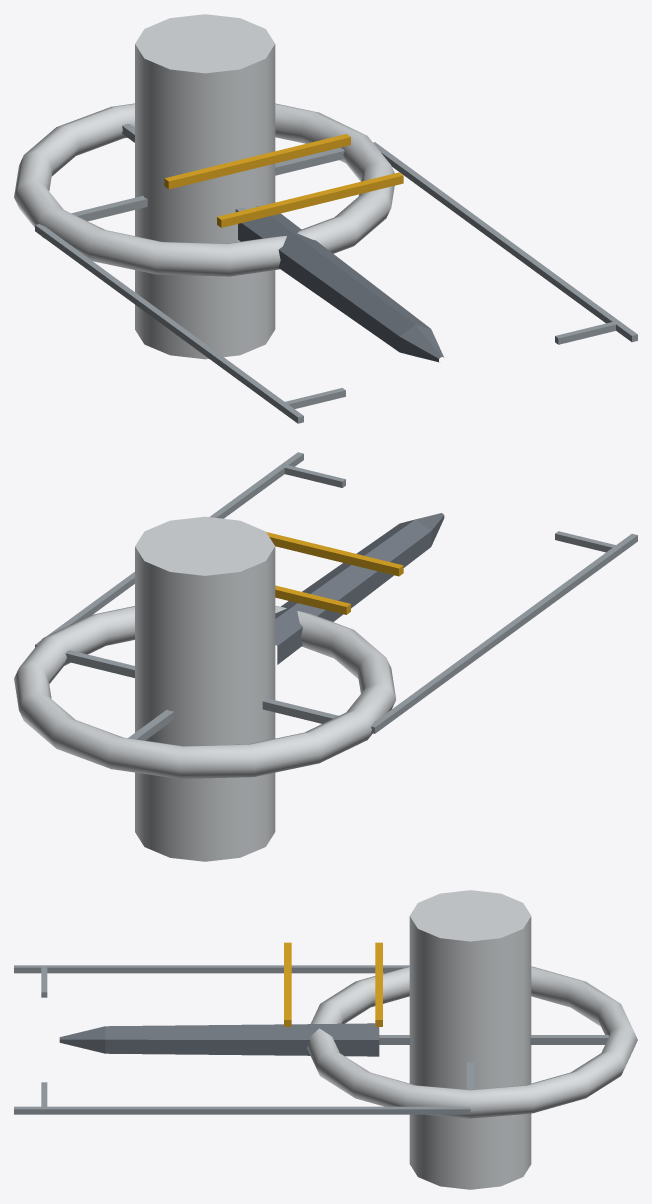
File: space_orbital_shipyard_t2.glb
3 renders of one model, top to bottom at view 1: azimuth 30°, elevation 25°; view 2: azimuth 150°, elevation 25°; view 3: azimuth 270°, elevation 25°, orthographic. The views are drawn at different scales.
Visible parts, largest first — view 1: body, ring, dock_arm_0, dock_arm_1, crane_1, crane_0; view 2: body, ring, dock_arm_0, dock_arm_1, crane_1, crane_0; view 3: body, ring, dock_arm_1, dock_arm_0, crane_0, crane_1.
Boxes of the visible parts, bbox=[...] form: body: bbox=[135, 14, 443, 362]; ring: bbox=[14, 103, 394, 276]; dock_arm_0: bbox=[35, 224, 345, 423]; dock_arm_1: bbox=[373, 142, 637, 344]; crane_1: bbox=[217, 172, 403, 227]; crane_0: bbox=[164, 134, 350, 189]; body: bbox=[135, 513, 444, 861]; ring: bbox=[14, 606, 396, 778]; dock_arm_0: bbox=[371, 531, 637, 733]; dock_arm_1: bbox=[35, 452, 345, 647]; crane_1: bbox=[266, 532, 403, 576]; crane_0: bbox=[275, 585, 350, 614]; body: bbox=[59, 890, 531, 1189]; ring: bbox=[307, 966, 637, 1118]; dock_arm_1: bbox=[14, 1082, 470, 1114]; dock_arm_0: bbox=[14, 965, 409, 997]; crane_0: bbox=[375, 942, 382, 1026]; crane_1: bbox=[284, 942, 291, 1026].
Size of what is drawn, in the model's own units: 22.4 by 18 by 41.
